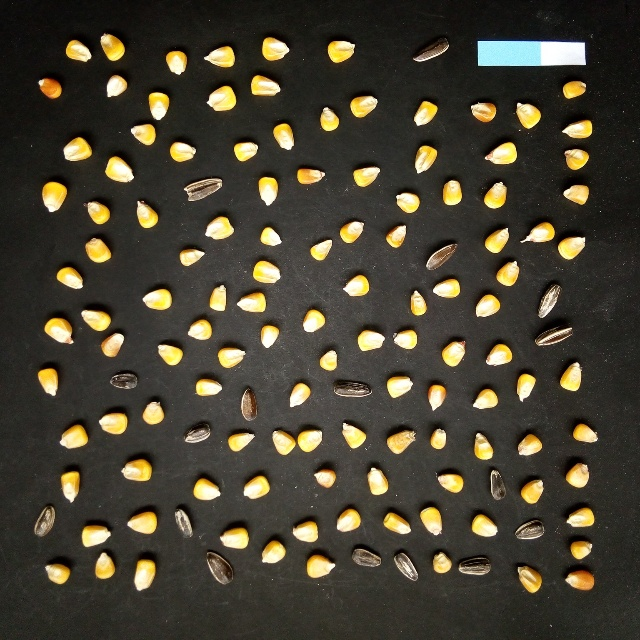escala: (477, 41, 587, 64)
girasol: (412, 34, 454, 71), (201, 548, 237, 590), (178, 175, 228, 204), (530, 320, 580, 349), (424, 239, 462, 275), (389, 547, 423, 586), (536, 279, 565, 321), (30, 503, 62, 541), (510, 516, 551, 545), (169, 504, 201, 541), (330, 377, 376, 400), (349, 542, 384, 571), (484, 466, 511, 503), (236, 383, 260, 424), (456, 555, 496, 579), (180, 419, 215, 445), (106, 368, 141, 392)
maiz: (31, 362, 68, 400), (483, 137, 521, 174), (511, 559, 548, 597), (116, 455, 158, 487), (38, 177, 71, 217), (321, 35, 361, 67), (239, 470, 275, 505), (40, 313, 77, 347), (302, 549, 339, 583), (139, 283, 177, 315), (100, 154, 139, 185), (336, 418, 370, 453), (384, 424, 419, 458), (131, 554, 160, 595), (55, 420, 92, 452), (246, 71, 285, 101), (350, 158, 385, 191), (409, 141, 442, 176), (511, 97, 544, 132), (257, 32, 293, 64), (214, 520, 250, 552), (123, 505, 160, 536), (556, 358, 587, 395), (267, 421, 296, 460), (479, 178, 512, 212), (560, 459, 593, 493), (383, 370, 418, 402), (204, 83, 240, 114), (96, 407, 132, 438), (40, 557, 76, 588), (519, 216, 556, 246), (332, 504, 365, 537), (516, 475, 549, 508), (438, 336, 470, 370), (284, 377, 315, 412), (416, 503, 447, 538), (132, 195, 162, 231), (223, 427, 259, 457), (431, 466, 467, 496), (58, 134, 95, 163), (255, 172, 284, 209), (76, 305, 114, 333), (511, 367, 539, 405), (562, 503, 600, 531), (97, 31, 130, 63), (361, 464, 392, 498), (512, 429, 546, 460), (467, 510, 501, 541), (144, 87, 174, 122), (80, 235, 115, 265), (480, 339, 515, 369), (57, 468, 85, 505), (189, 475, 226, 503), (77, 519, 114, 547), (558, 115, 595, 143), (348, 91, 381, 122), (249, 257, 283, 287), (353, 325, 387, 355), (258, 534, 288, 568), (338, 271, 373, 300), (288, 515, 323, 544), (466, 98, 501, 127), (233, 288, 269, 316), (214, 342, 250, 370), (204, 212, 237, 242), (297, 422, 327, 455), (482, 223, 512, 256), (378, 507, 412, 536), (80, 199, 115, 227), (52, 264, 87, 292), (556, 233, 591, 261), (560, 567, 599, 592), (201, 43, 237, 70), (190, 374, 227, 400), (558, 147, 595, 173), (337, 215, 368, 246), (306, 235, 337, 266), (185, 315, 217, 345), (558, 76, 591, 105), (471, 292, 504, 321), (229, 136, 263, 164), (269, 119, 297, 153), (470, 385, 504, 413), (469, 428, 497, 462), (91, 548, 118, 583), (558, 182, 594, 208), (381, 220, 411, 251), (494, 257, 524, 288), (411, 97, 440, 129), (438, 175, 466, 208), (97, 331, 130, 359), (422, 380, 449, 414), (139, 397, 168, 428), (34, 75, 67, 102), (391, 189, 424, 216), (563, 538, 600, 562), (126, 122, 160, 148), (568, 419, 602, 445), (405, 286, 430, 321), (292, 164, 330, 187), (428, 547, 457, 577), (162, 46, 189, 78), (153, 341, 185, 368), (430, 275, 464, 300), (300, 305, 328, 335), (62, 37, 93, 64), (175, 243, 206, 270), (204, 281, 230, 313), (388, 325, 420, 351), (255, 323, 284, 351), (103, 71, 130, 101), (255, 222, 285, 249), (310, 465, 339, 492), (166, 140, 200, 162), (318, 105, 342, 133), (428, 423, 450, 452)
